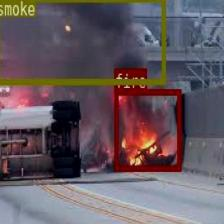fire: (114, 89, 180, 170)
smoke: (0, 0, 165, 84)
